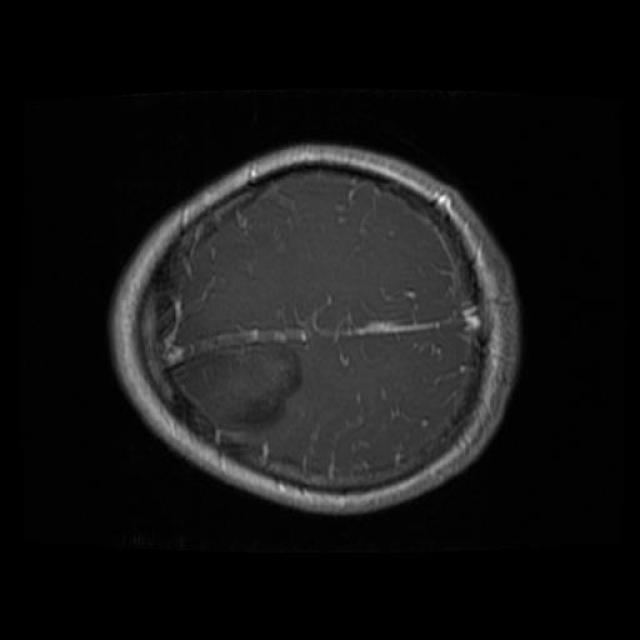Glioma: (198, 352, 301, 429)
